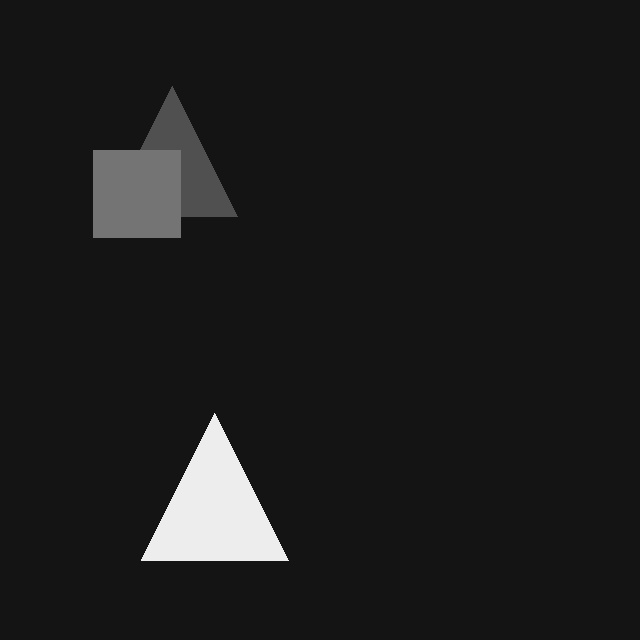square: (93, 150, 180, 237)
triangle: (141, 413, 288, 560), (107, 86, 237, 216)
